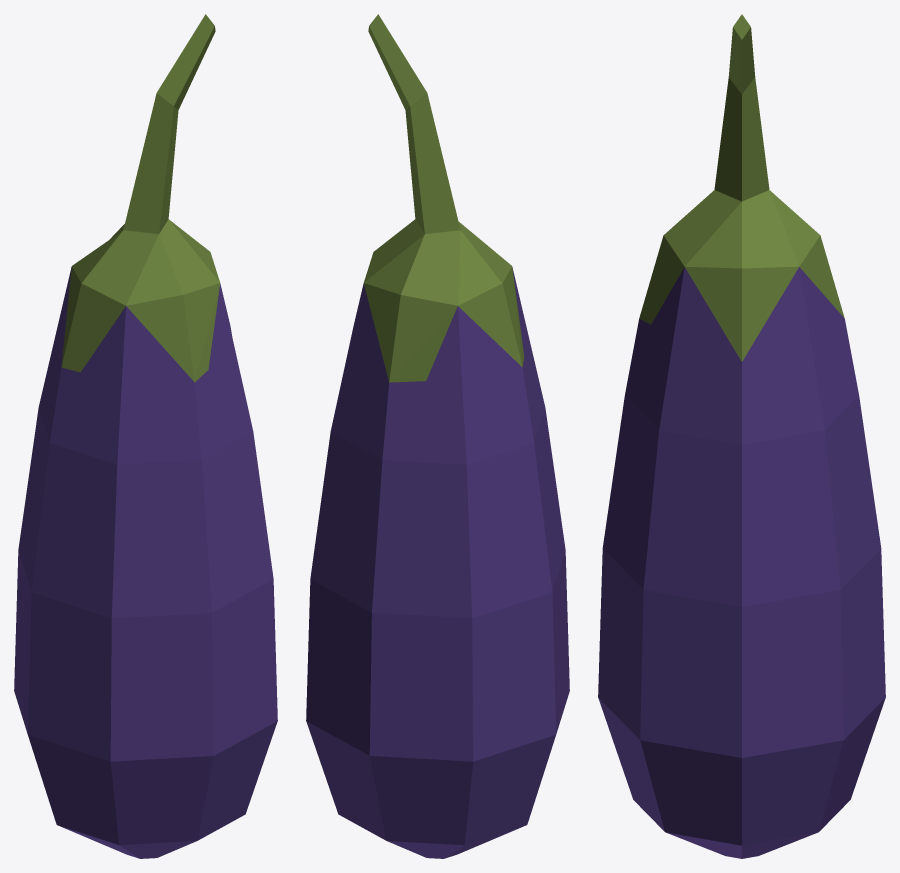
Rendered from SM_Envr_Nature_Farm_Vegetable_EggPlant_02.fbx.
3 views of the same model, side by side, from view 1: azimuth 30°, elevation 25°; view 2: azimuth 150°, elevation 25°; view 3: azimuth 270°, elevation 25° (orthographic). The views are drawn at different scales.
Parts seen in each view (by area): view 1: SM_Envr_Nature_Farm_Vegetable_EggPlant_02; view 2: SM_Envr_Nature_Farm_Vegetable_EggPlant_02; view 3: SM_Envr_Nature_Farm_Vegetable_EggPlant_02.
Part boxes in pixels (x1,y1,x2,y2): SM_Envr_Nature_Farm_Vegetable_EggPlant_02: (14,14,277,858); SM_Envr_Nature_Farm_Vegetable_EggPlant_02: (306,14,569,858); SM_Envr_Nature_Farm_Vegetable_EggPlant_02: (598,14,885,858).
Bounding box in the file's own units: 5.99 × 19.86 × 5.99.
